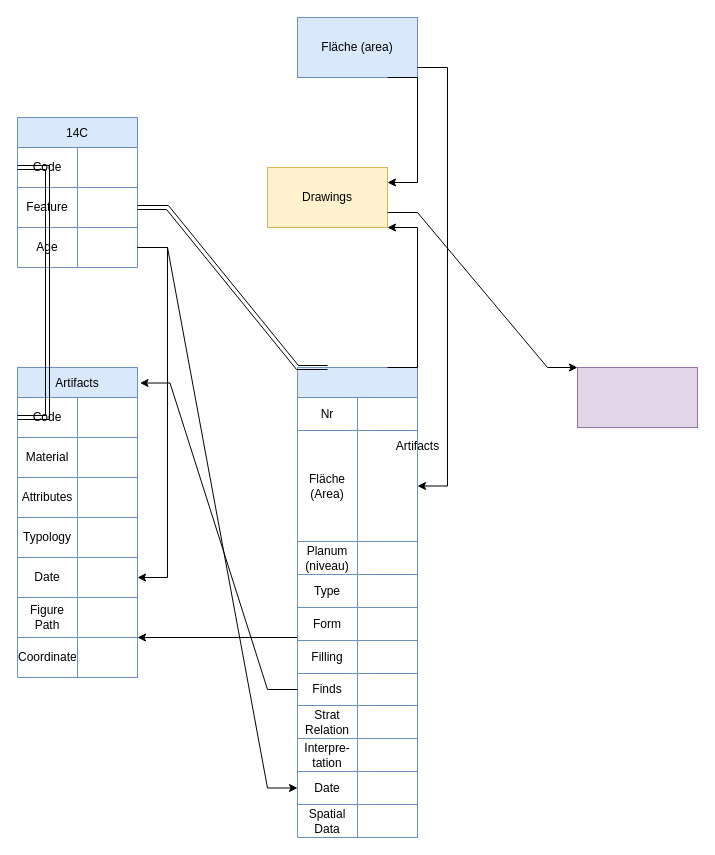
This 715x855 diagram has some shape labels left out. Each missing label, with the box of its shape:
Features: (296, 366, 418, 838)
Local Coordinates: (576, 366, 698, 428)
